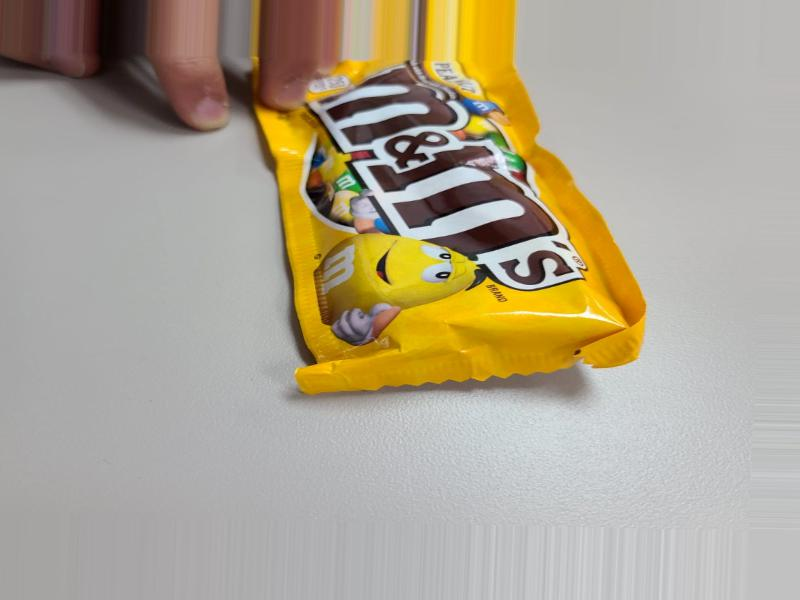m&m: (248, 7, 616, 387)
